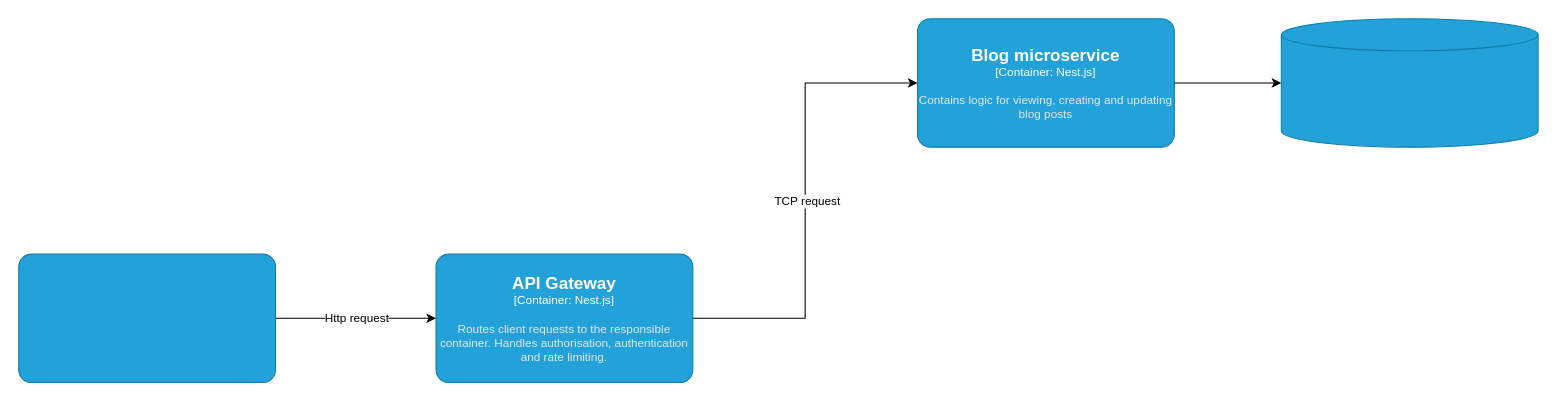
Image size: 1557x401. Some labels were removed from this diagram. The shapes that lost their labels are listed below. From the top down, each one's centre as x and y in pixels, then its label:
At pixel 1409 82: "Blog microservice db [Container: ] Stores blog posts".
At pixel 147 318: "Website [Container: Next.js] Web front-end for users.".
